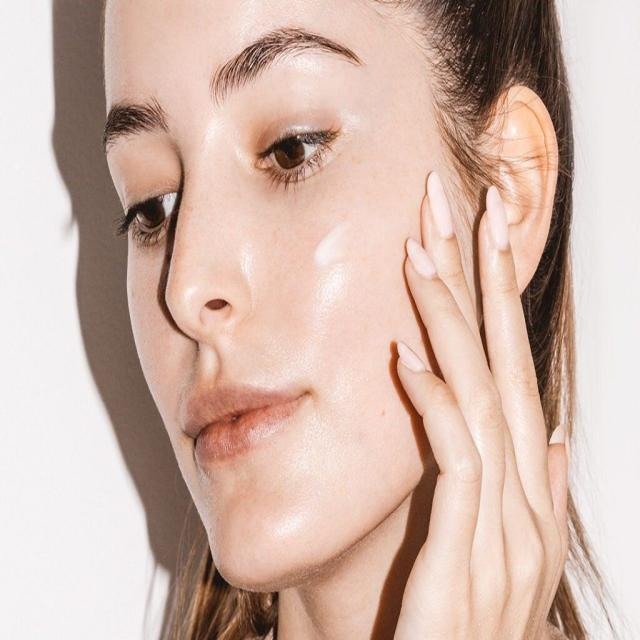oily: (270, 203, 386, 371), (208, 484, 318, 554)
